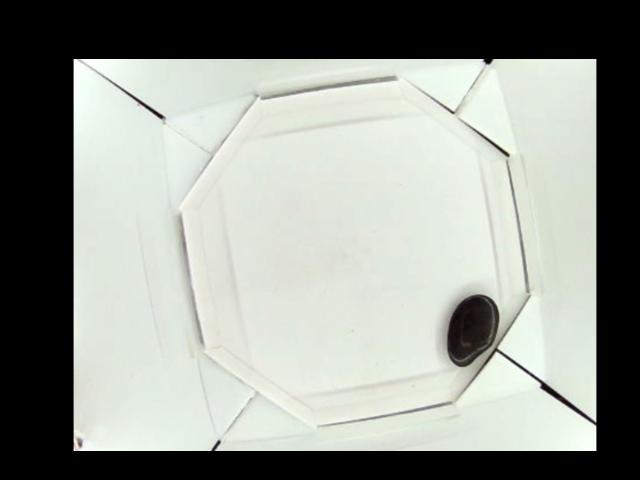Pebble: (445, 295, 500, 366)
